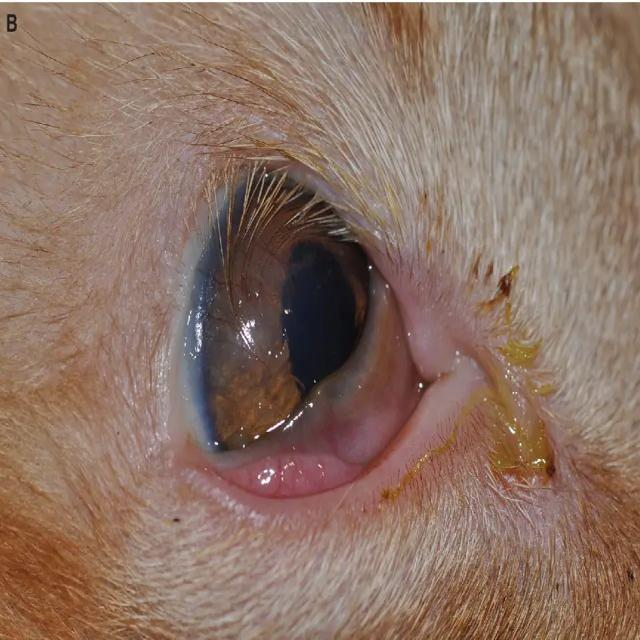eye_infection: (163, 147, 457, 527)
